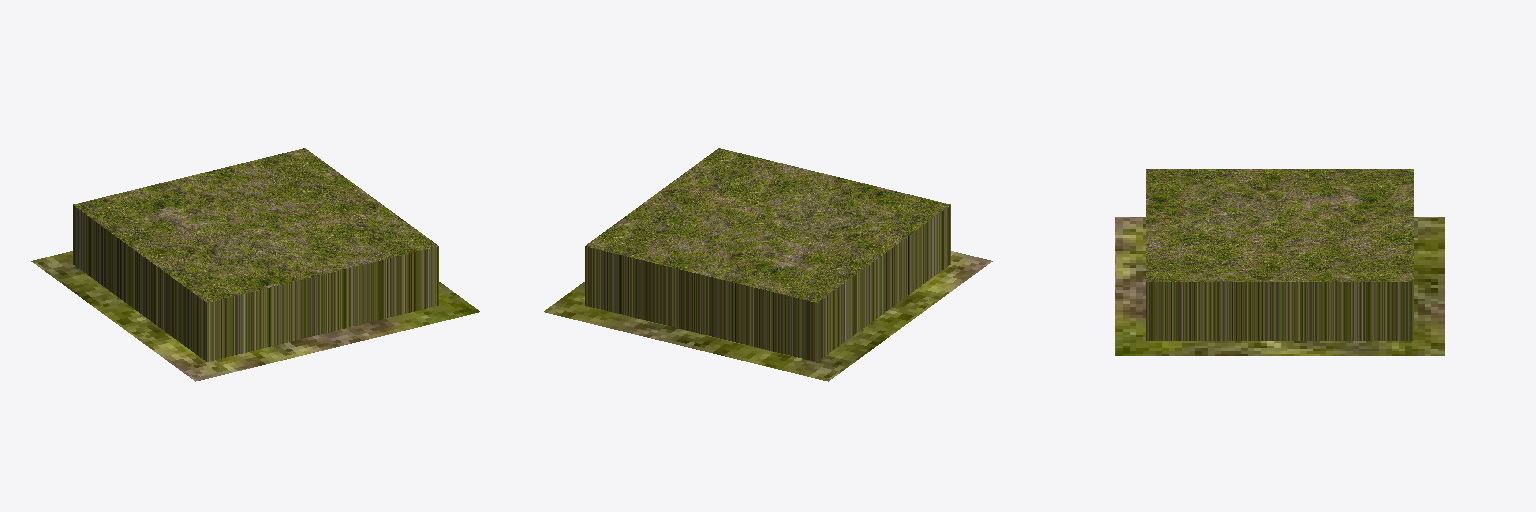
The picture shows the model from 3 angles: view 1: azimuth 30°, elevation 25°; view 2: azimuth 150°, elevation 25°; view 3: azimuth 270°, elevation 25°; orthographic projection.
Parts seen in each view (by area): view 1: Grid; view 2: Grid; view 3: Grid.
Boxes of the visible parts, x1,y1,x2,y2 form: Grid: [31, 148, 479, 381]; Grid: [544, 148, 992, 381]; Grid: [1115, 169, 1444, 355].
Size of the model in its own units: 155 by 31.65 by 155.
Materials: 2 (2 with a texture image).